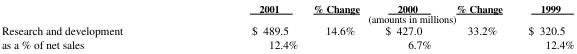table: (0, 0, 573, 50)
table column: (0, 0, 186, 50), (186, 0, 304, 50), (371, 0, 443, 50), (443, 0, 514, 50), (304, 0, 371, 50), (514, 0, 573, 50)
table column header: (0, 0, 573, 23)
table row: (0, 36, 573, 50), (0, 0, 573, 13), (0, 23, 573, 36), (0, 13, 573, 23)
table spanning cell: (186, 13, 573, 23)
